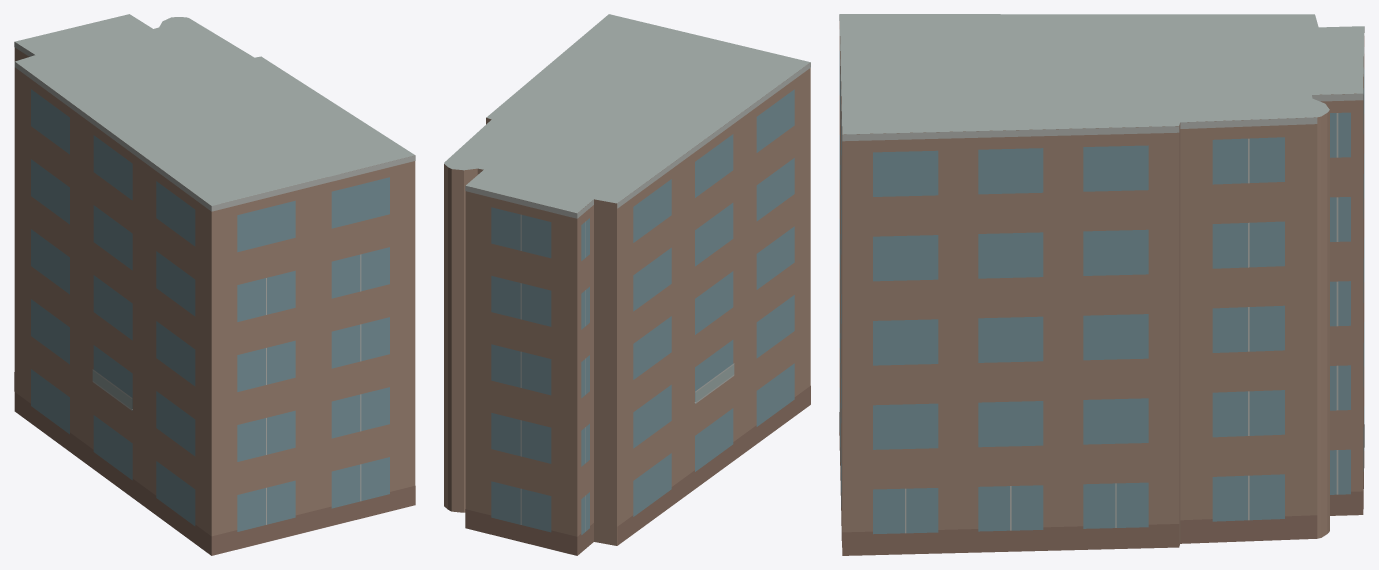
The model's file is survey-upis-32491696.glb.
The picture shows the model from 3 angles, left to right: view 1: azimuth 30°, elevation 25°; view 2: azimuth 150°, elevation 25°; view 3: azimuth 270°, elevation 25°; orthographic projection. The views are drawn at different scales.
Visible parts, largest first — view 1: survey-upis-32491696.tmp; view 2: survey-upis-32491696.tmp; view 3: survey-upis-32491696.tmp.
Boxes of the visible parts, x1,y1,x2,y2 form: survey-upis-32491696.tmp: [14, 14, 415, 555]; survey-upis-32491696.tmp: [444, 14, 810, 555]; survey-upis-32491696.tmp: [839, 14, 1364, 555].
Bounding box in the file's own units: 9.39 × 15.25 × 17.22.
